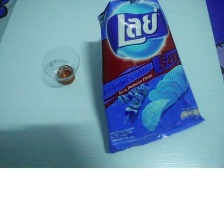bottle: (36, 41, 83, 88)
snack: (89, 0, 211, 157)
